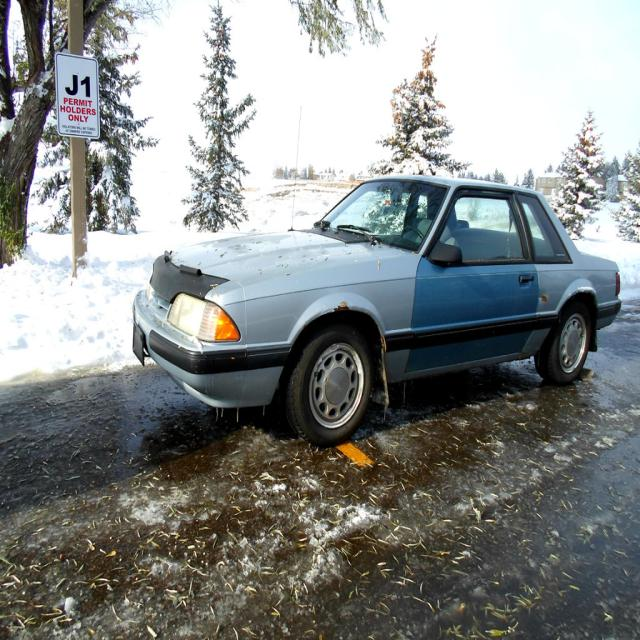car: (132, 104, 620, 446)
